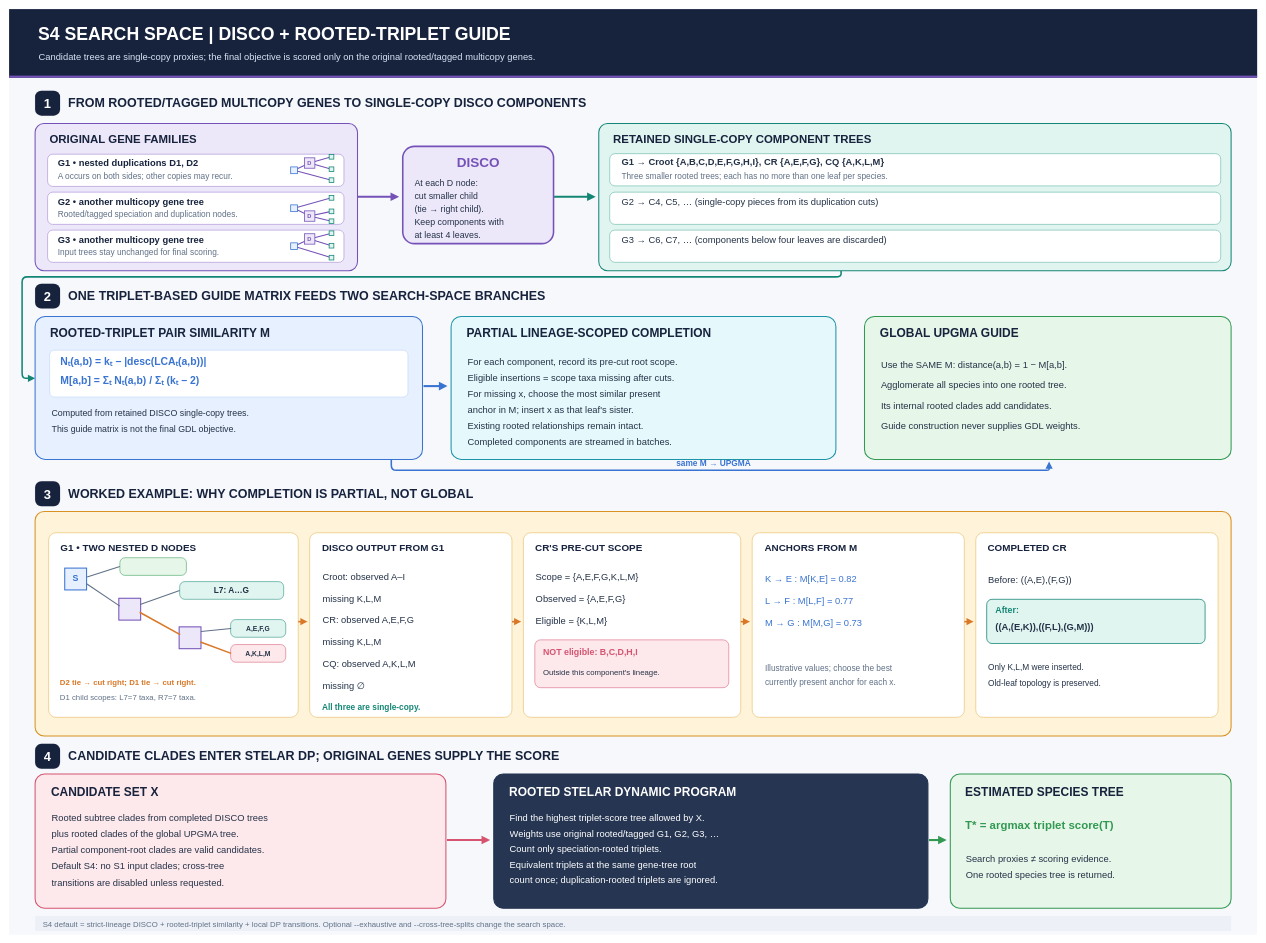
The diagram is 1266 pixels wide and 943 high, and some of its shapes have lost their labels. Each missing label, with the centre of its shape:
"D1" belongs at (129,608).
"D2" belongs at (189,637).
"H, I" belongs at (152,566).
